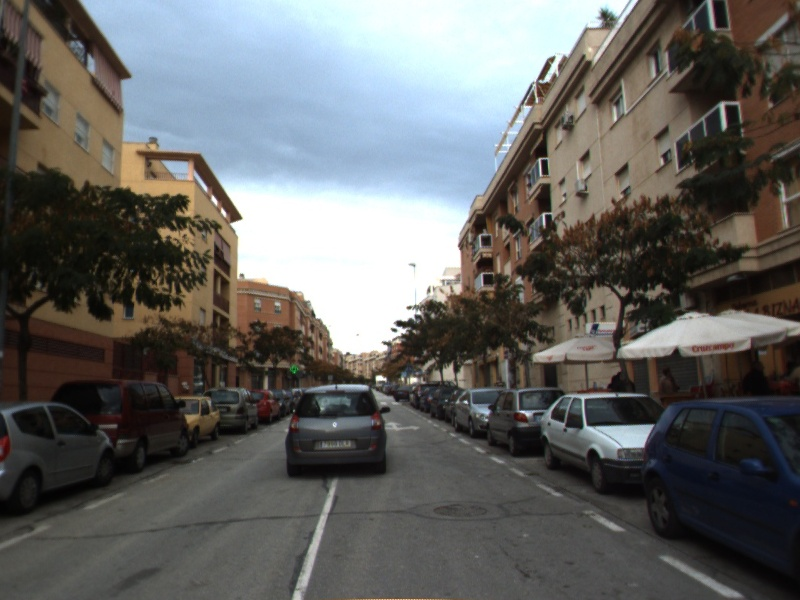STRAIGHT_RIGHT: (385, 420, 423, 433)
